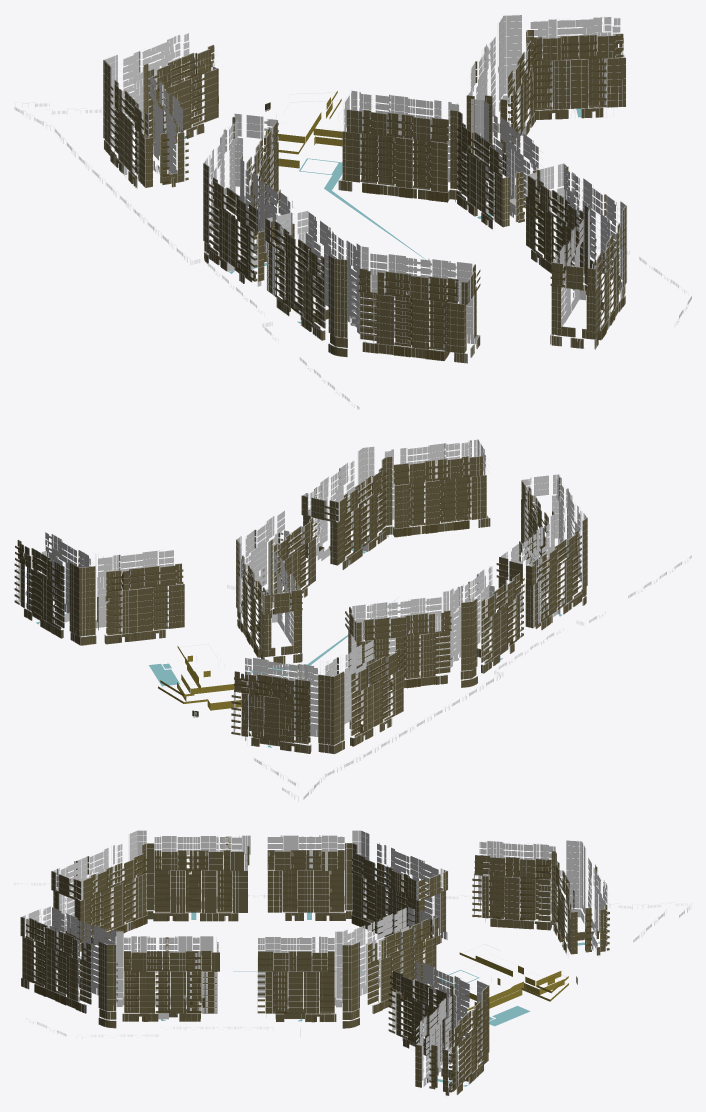
The model's file is Yaafour_Mesh_no_b.glb.
3 renders of one model, top to bottom at view 1: azimuth 30°, elevation 25°; view 2: azimuth 150°, elevation 25°; view 3: azimuth 270°, elevation 25°, orthographic. The views are drawn at different scales.
Visible parts, largest first — view 1: Mesh_no_b; view 2: Mesh_no_b; view 3: Mesh_no_b.
Boxes of the visible parts, box(x1,y1,x2,y2) form: Mesh_no_b: box(14, 15, 691, 409); Mesh_no_b: box(14, 439, 691, 801); Mesh_no_b: box(14, 830, 691, 1095).
Bounding box in the file's own units: 263 × 47.79 × 348.
